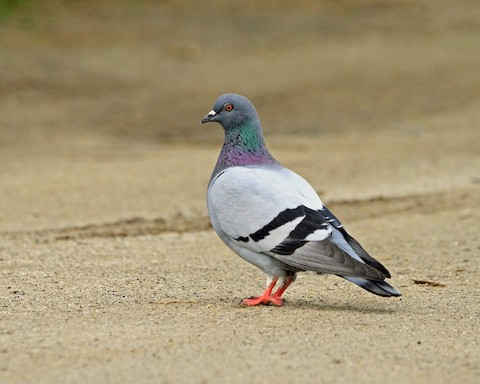pigeon: (198, 90, 406, 311)
